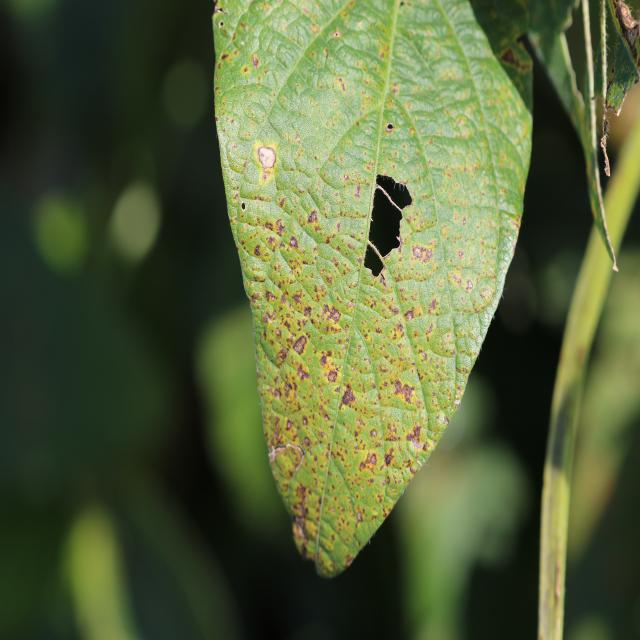Bacterial_Blight: (289, 479, 315, 546), (268, 442, 304, 472), (391, 373, 421, 403), (215, 7, 238, 42), (428, 332, 453, 355), (411, 243, 434, 265), (257, 145, 277, 170), (227, 155, 249, 176), (340, 385, 357, 407), (406, 423, 422, 443), (385, 422, 400, 441), (292, 335, 307, 354), (275, 346, 289, 366), (363, 451, 378, 469), (327, 305, 341, 322), (455, 383, 465, 403), (213, 2, 228, 15), (274, 218, 285, 234), (264, 289, 276, 303), (327, 368, 338, 383), (456, 114, 468, 127), (307, 210, 318, 224), (428, 298, 438, 313), (403, 309, 414, 322), (384, 451, 393, 466), (289, 237, 299, 249), (354, 184, 362, 199), (283, 382, 292, 395), (465, 278, 473, 292), (442, 413, 450, 426), (303, 306, 312, 317), (380, 273, 387, 287), (253, 244, 261, 256), (251, 55, 259, 67), (278, 197, 286, 208), (332, 30, 341, 39), (369, 428, 377, 438), (304, 436, 311, 447), (454, 398, 461, 409), (221, 53, 229, 62), (357, 511, 363, 523), (423, 442, 430, 452), (286, 419, 292, 430), (242, 66, 249, 75), (262, 172, 269, 181), (302, 416, 308, 426), (324, 413, 330, 421), (343, 174, 349, 181)
Soybean: (212, 0, 534, 582)
